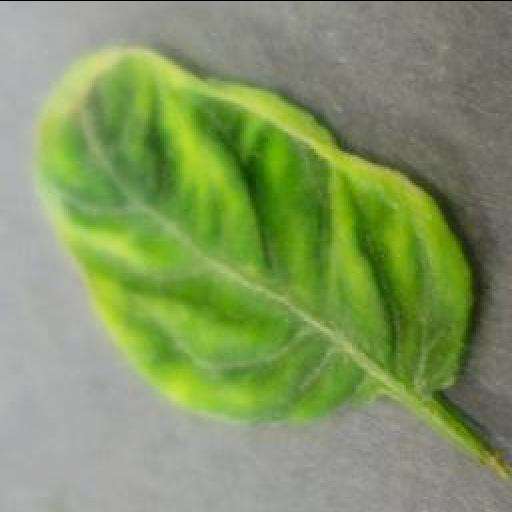disease_tomato: (30, 42, 478, 422)
